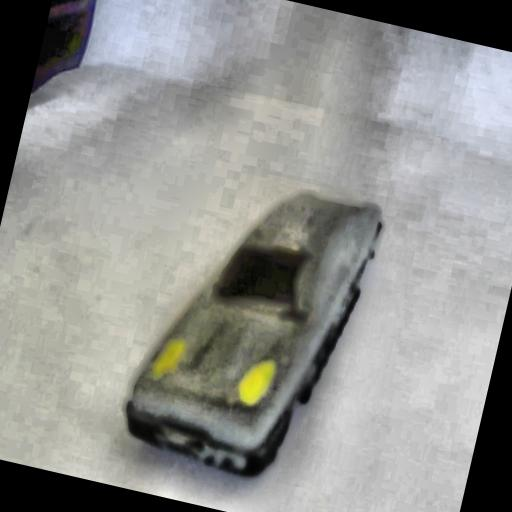normal_car: (110, 159, 388, 498)
